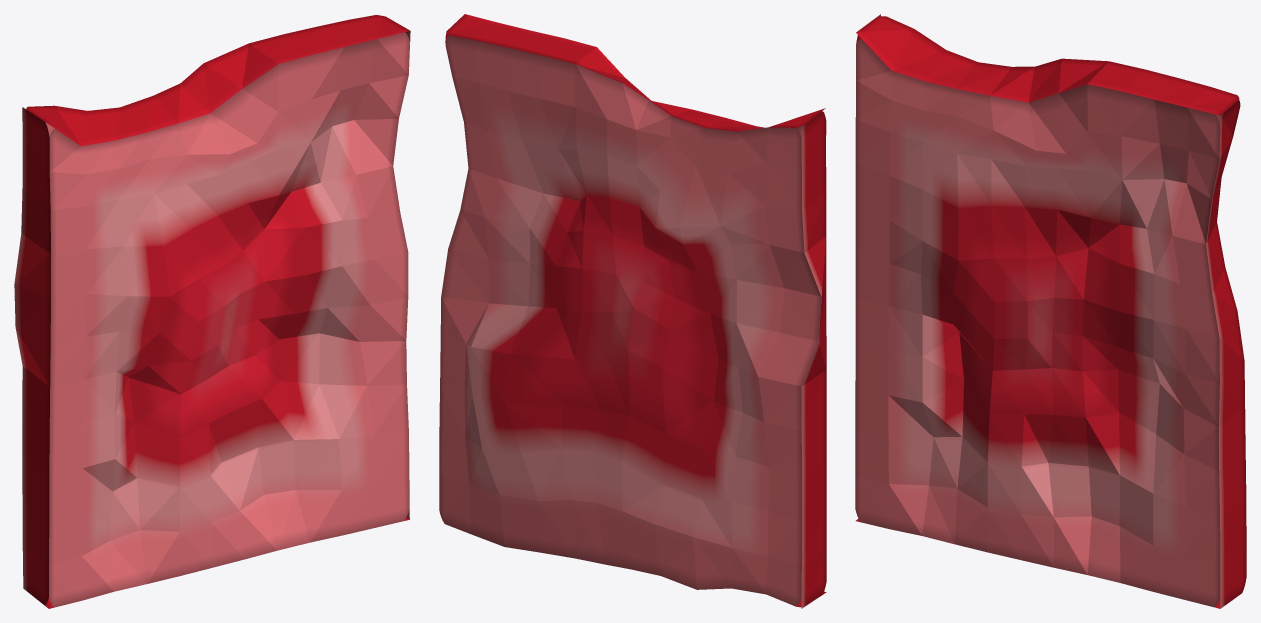
The model's file is red_moongate_0776x08.obj.
The picture shows the model from 3 angles, left to right: view 1: azimuth 30°, elevation 25°; view 2: azimuth 150°, elevation 25°; view 3: azimuth 330°, elevation 25°; orthographic projection.
Parts seen in each view (by area): view 1: red_moongate_0776x08; view 2: red_moongate_0776x08; view 3: red_moongate_0776x08.
Boxes of the visible parts, <box> form: red_moongate_0776x08: <box>14,15,410,608</box>; red_moongate_0776x08: <box>439,14,826,608</box>; red_moongate_0776x08: <box>855,14,1246,608</box>.
Size of the model in its own units: 4.29 by 5.42 by 0.8405.
